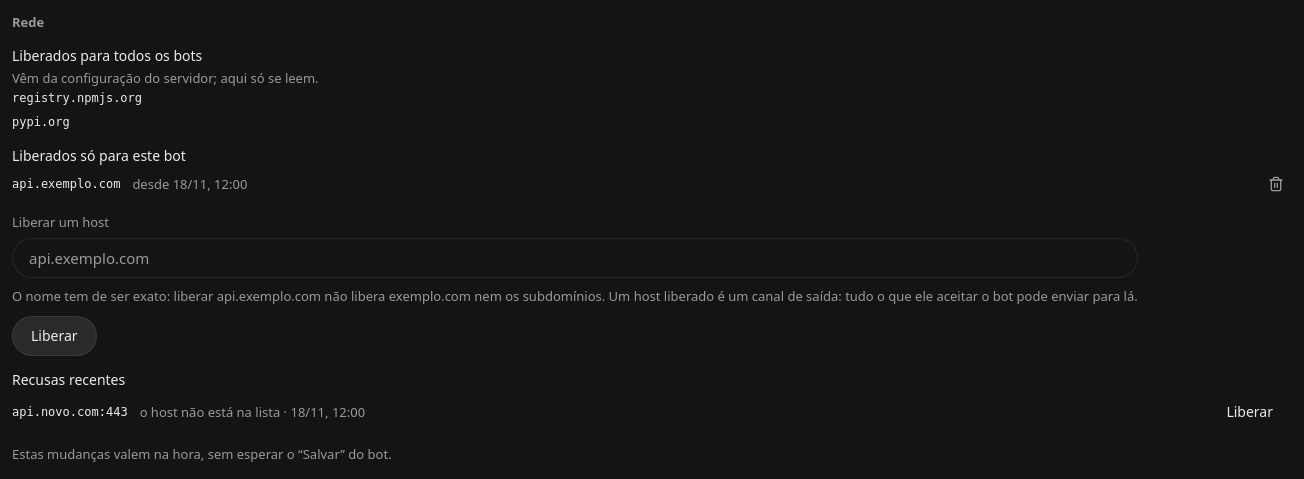
Test case: the Rede section of a bot › shows the server's refusal message for an IP or localhost, in the server's words
The image size is (1304, 479).
Expected: the list with test id "network-defaults" is shown, [12, 91, 142, 129]
In the field labelled "Liberar um host": (575, 258) [12, 238, 1138, 278], type "10.0.0.1"
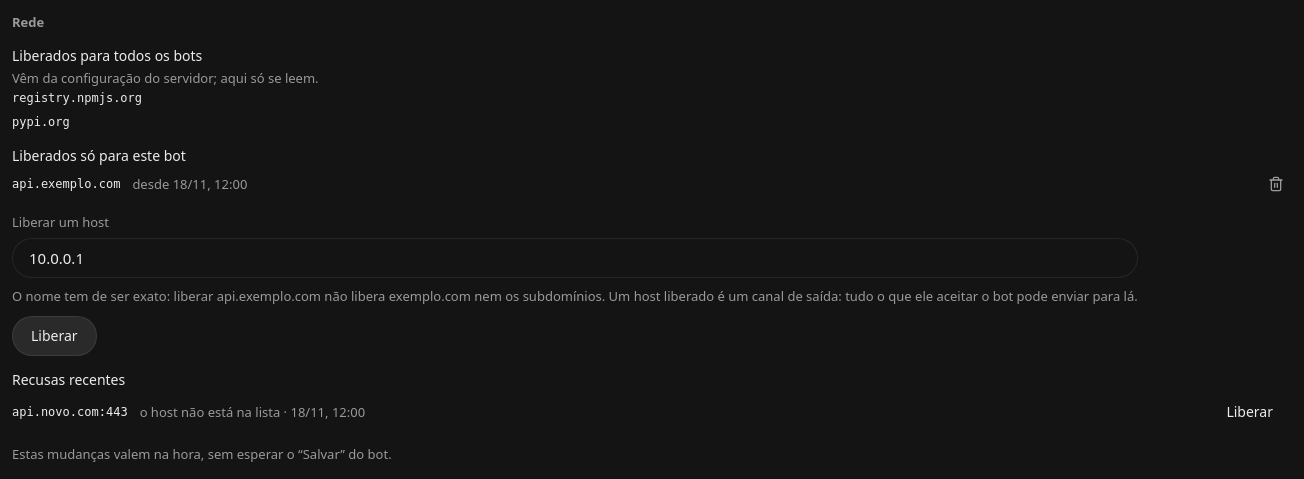
Click the button with test id "network-add": (54, 336) [12, 316, 97, 356]
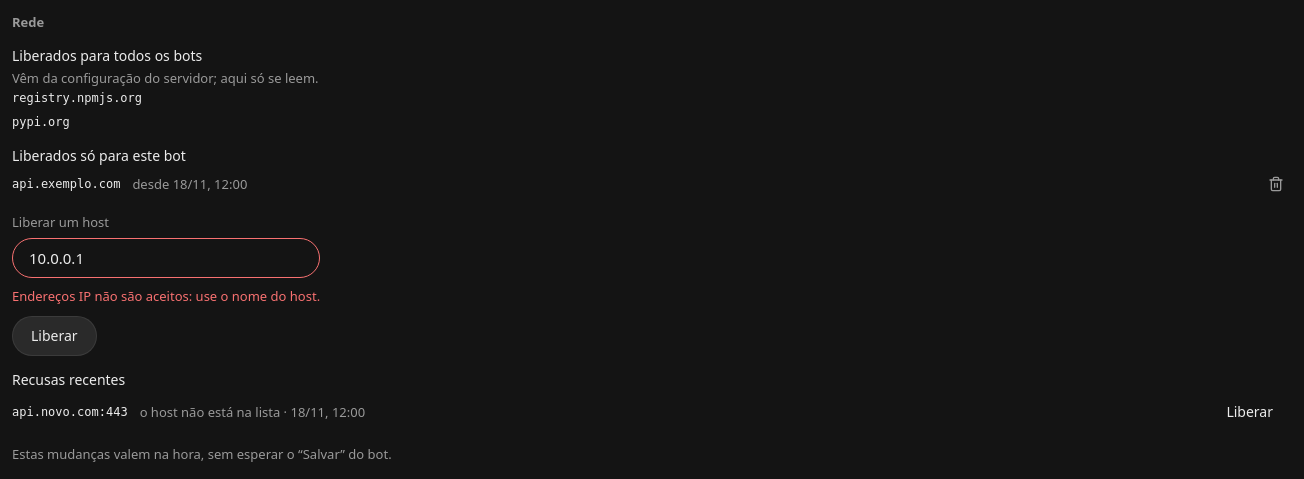
Expected: the message reads "Endereços IP não são aceitos: use o nome do host.", [12, 287, 320, 305]
